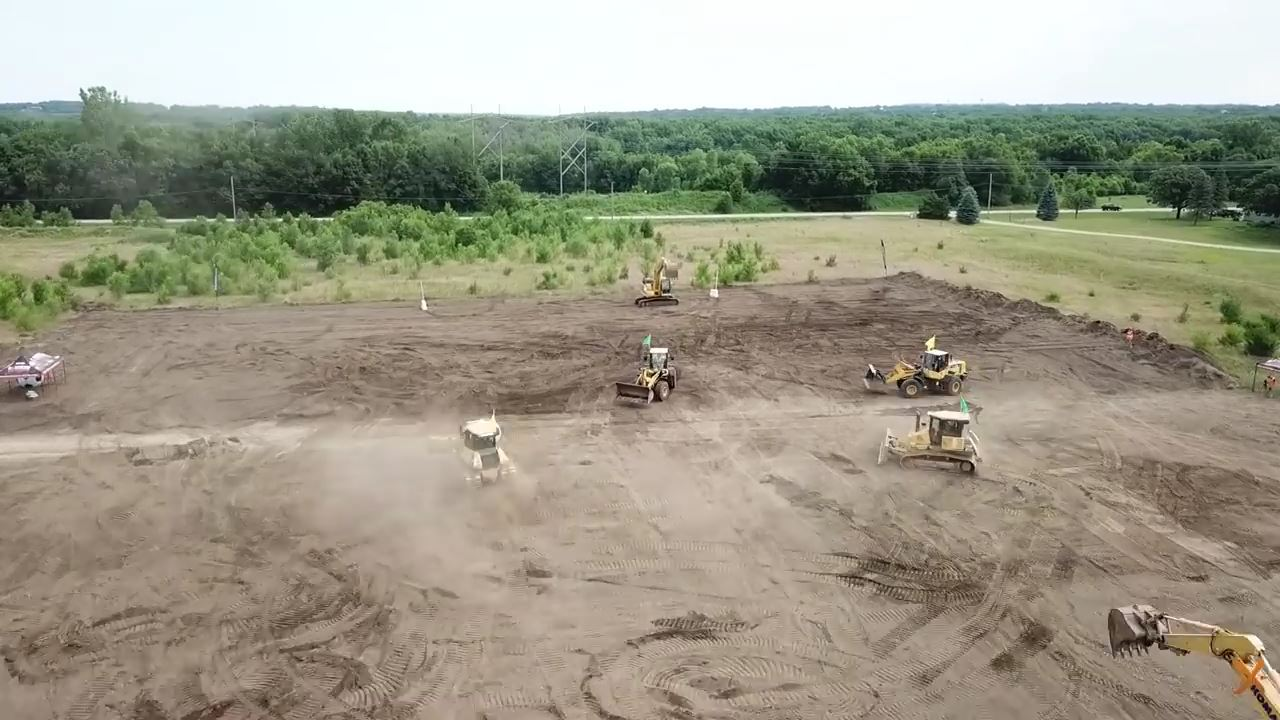con_eq: (1106, 597, 1219, 675), (870, 409, 989, 477), (436, 409, 516, 487), (856, 347, 970, 400), (607, 344, 681, 412), (631, 256, 685, 308)
